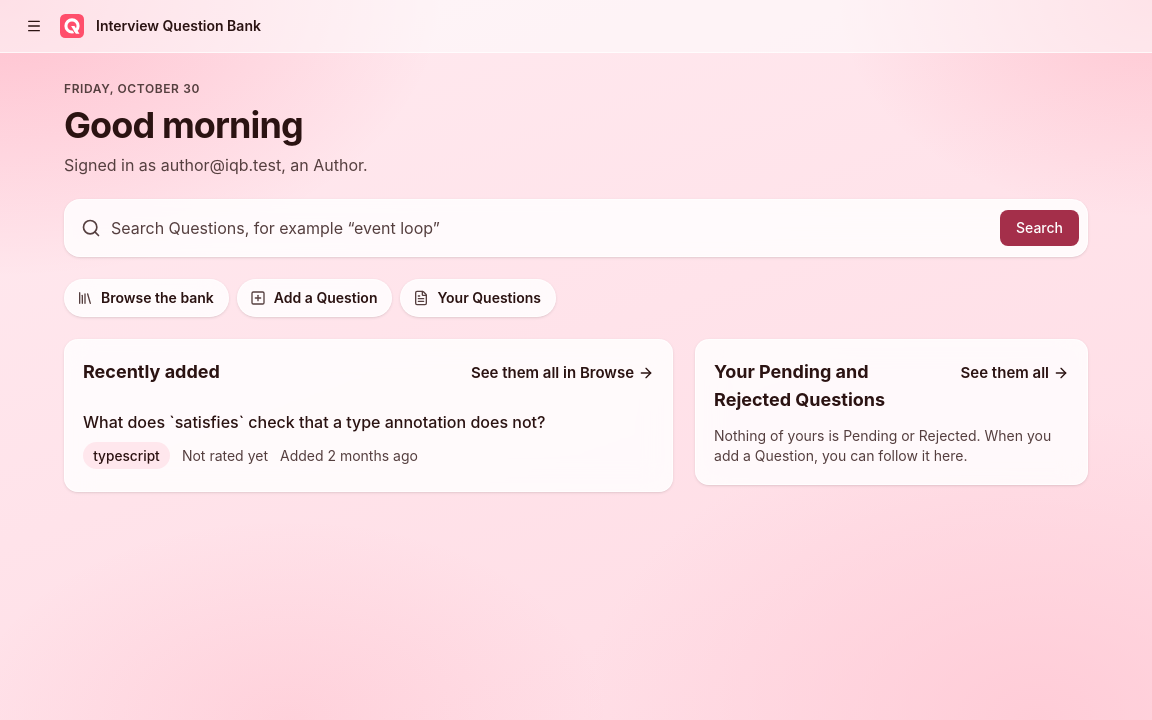
Test case: searching from Home › opens Browse with the keywords in the address
Type " cache miss " into the search field labelled "Search". click: {"x": 550, "y": 228}
box: [111,208,990,248]
Then press Enter
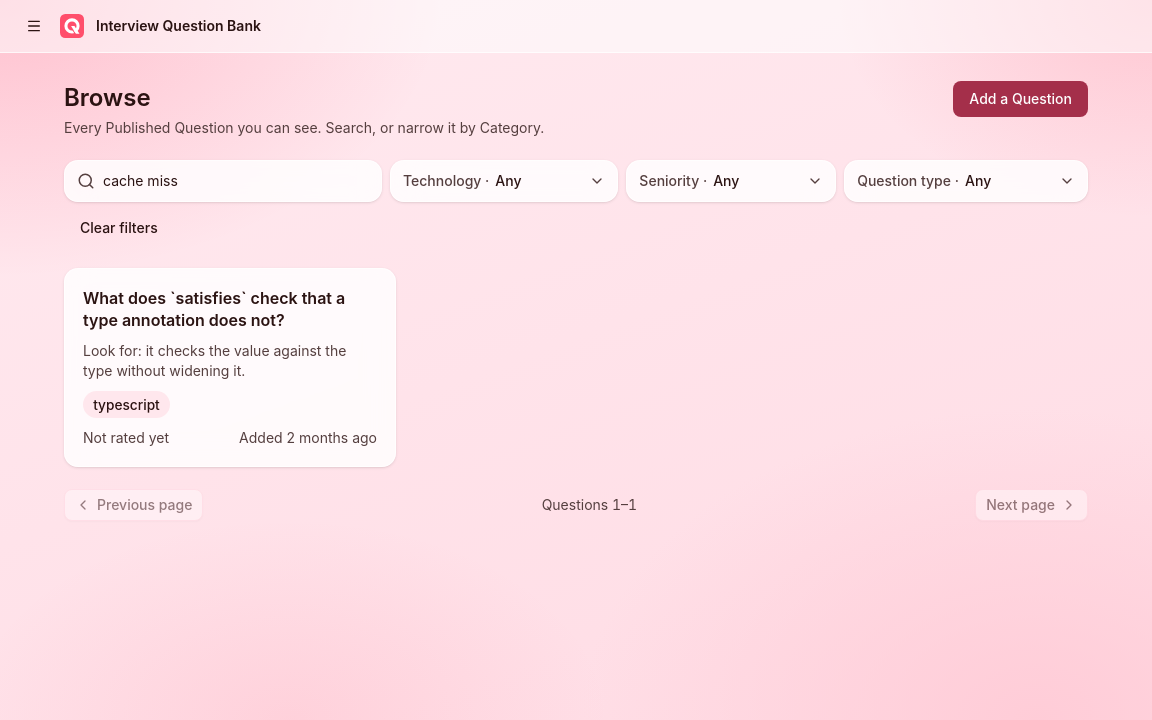
Expected: the heading "Browse" is shown, [64,83,151,112]
Expected: the search field named "Search" holds "cache miss", [103,163,375,199]
